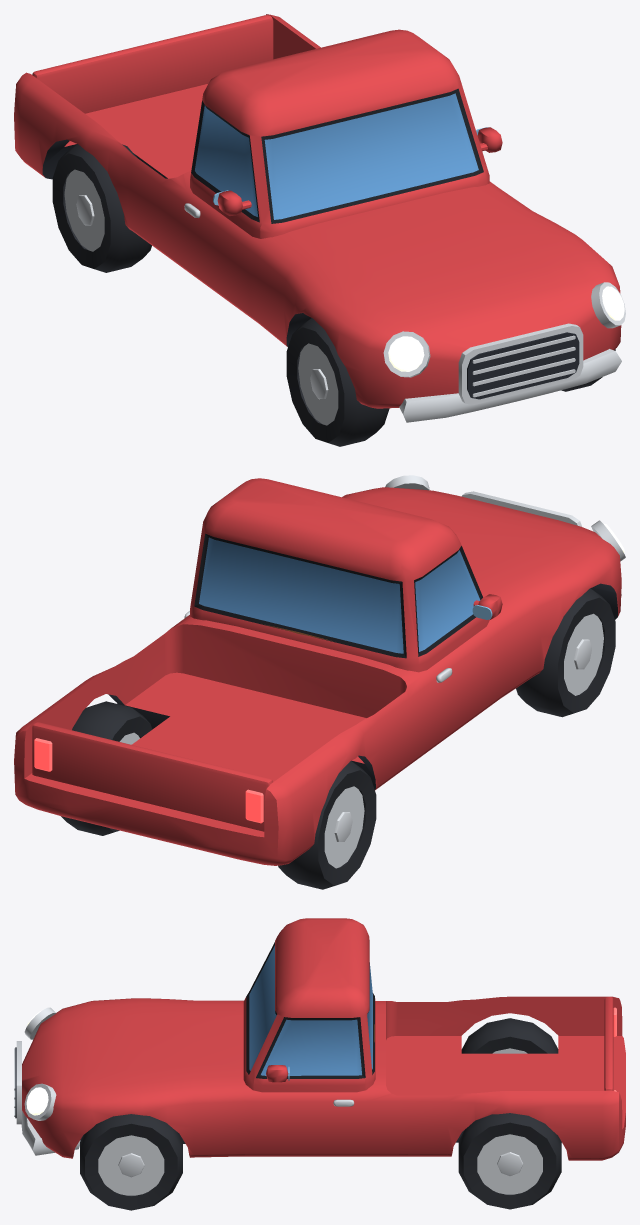
File: picape_vermelha.glb
The picture shows the model from 3 angles, top to bottom: view 1: azimuth 30°, elevation 25°; view 2: azimuth 150°, elevation 25°; view 3: azimuth 270°, elevation 25°; orthographic projection. The views are drawn at different scales.
Parts seen in each view (by area): view 1: picape_vermelha, porta_dianteira_esq, tampa_cacamba, roda_traseira_esq, roda_dianteira_esq; view 2: picape_vermelha, tampa_cacamba, porta_dianteira_esq, roda_dianteira_esq, roda_traseira_esq, roda_traseira_dir; view 3: picape_vermelha, porta_dianteira_dir, roda_traseira_dir, roda_dianteira_dir, roda_traseira_esq, tampa_cacamba.
Part boxes in pixels (x1=…): picape_vermelha: x1=14, y1=14, x2=625, y2=422; porta_dianteira_esq: x1=179, y1=101, x2=269, y2=316; tampa_cacamba: x1=32, y1=15, x2=273, y2=113; roda_traseira_esq: x1=52, y1=144, x2=151, y2=272; roda_dianteira_esq: x1=286, y1=318, x2=389, y2=446; picape_vermelha: x1=14, y1=475, x2=625, y2=865; tampa_cacamba: x1=32, y1=722, x2=272, y2=831; porta_dianteira_esq: x1=406, y1=546, x2=500, y2=749; roda_dianteira_esq: x1=516, y1=588, x2=615, y2=717; roda_traseira_esq: x1=278, y1=761, x2=376, y2=889; roda_traseira_dir: x1=61, y1=701, x2=152, y2=835; picape_vermelha: x1=14, y1=918, x2=625, y2=1160; porta_dianteira_dir: x1=254, y1=1014, x2=364, y2=1154; roda_traseira_dir: x1=458, y1=1113, x2=561, y2=1209; roda_dianteira_dir: x1=80, y1=1114, x2=182, y2=1210; roda_traseira_esq: x1=461, y1=1018, x2=558, y2=1053; tampa_cacamba: x1=604, y1=996, x2=616, y2=1091.
Bounding box in the file's own units: 1.95 × 1.77 × 4.64.
4 materials, 1 textured.
